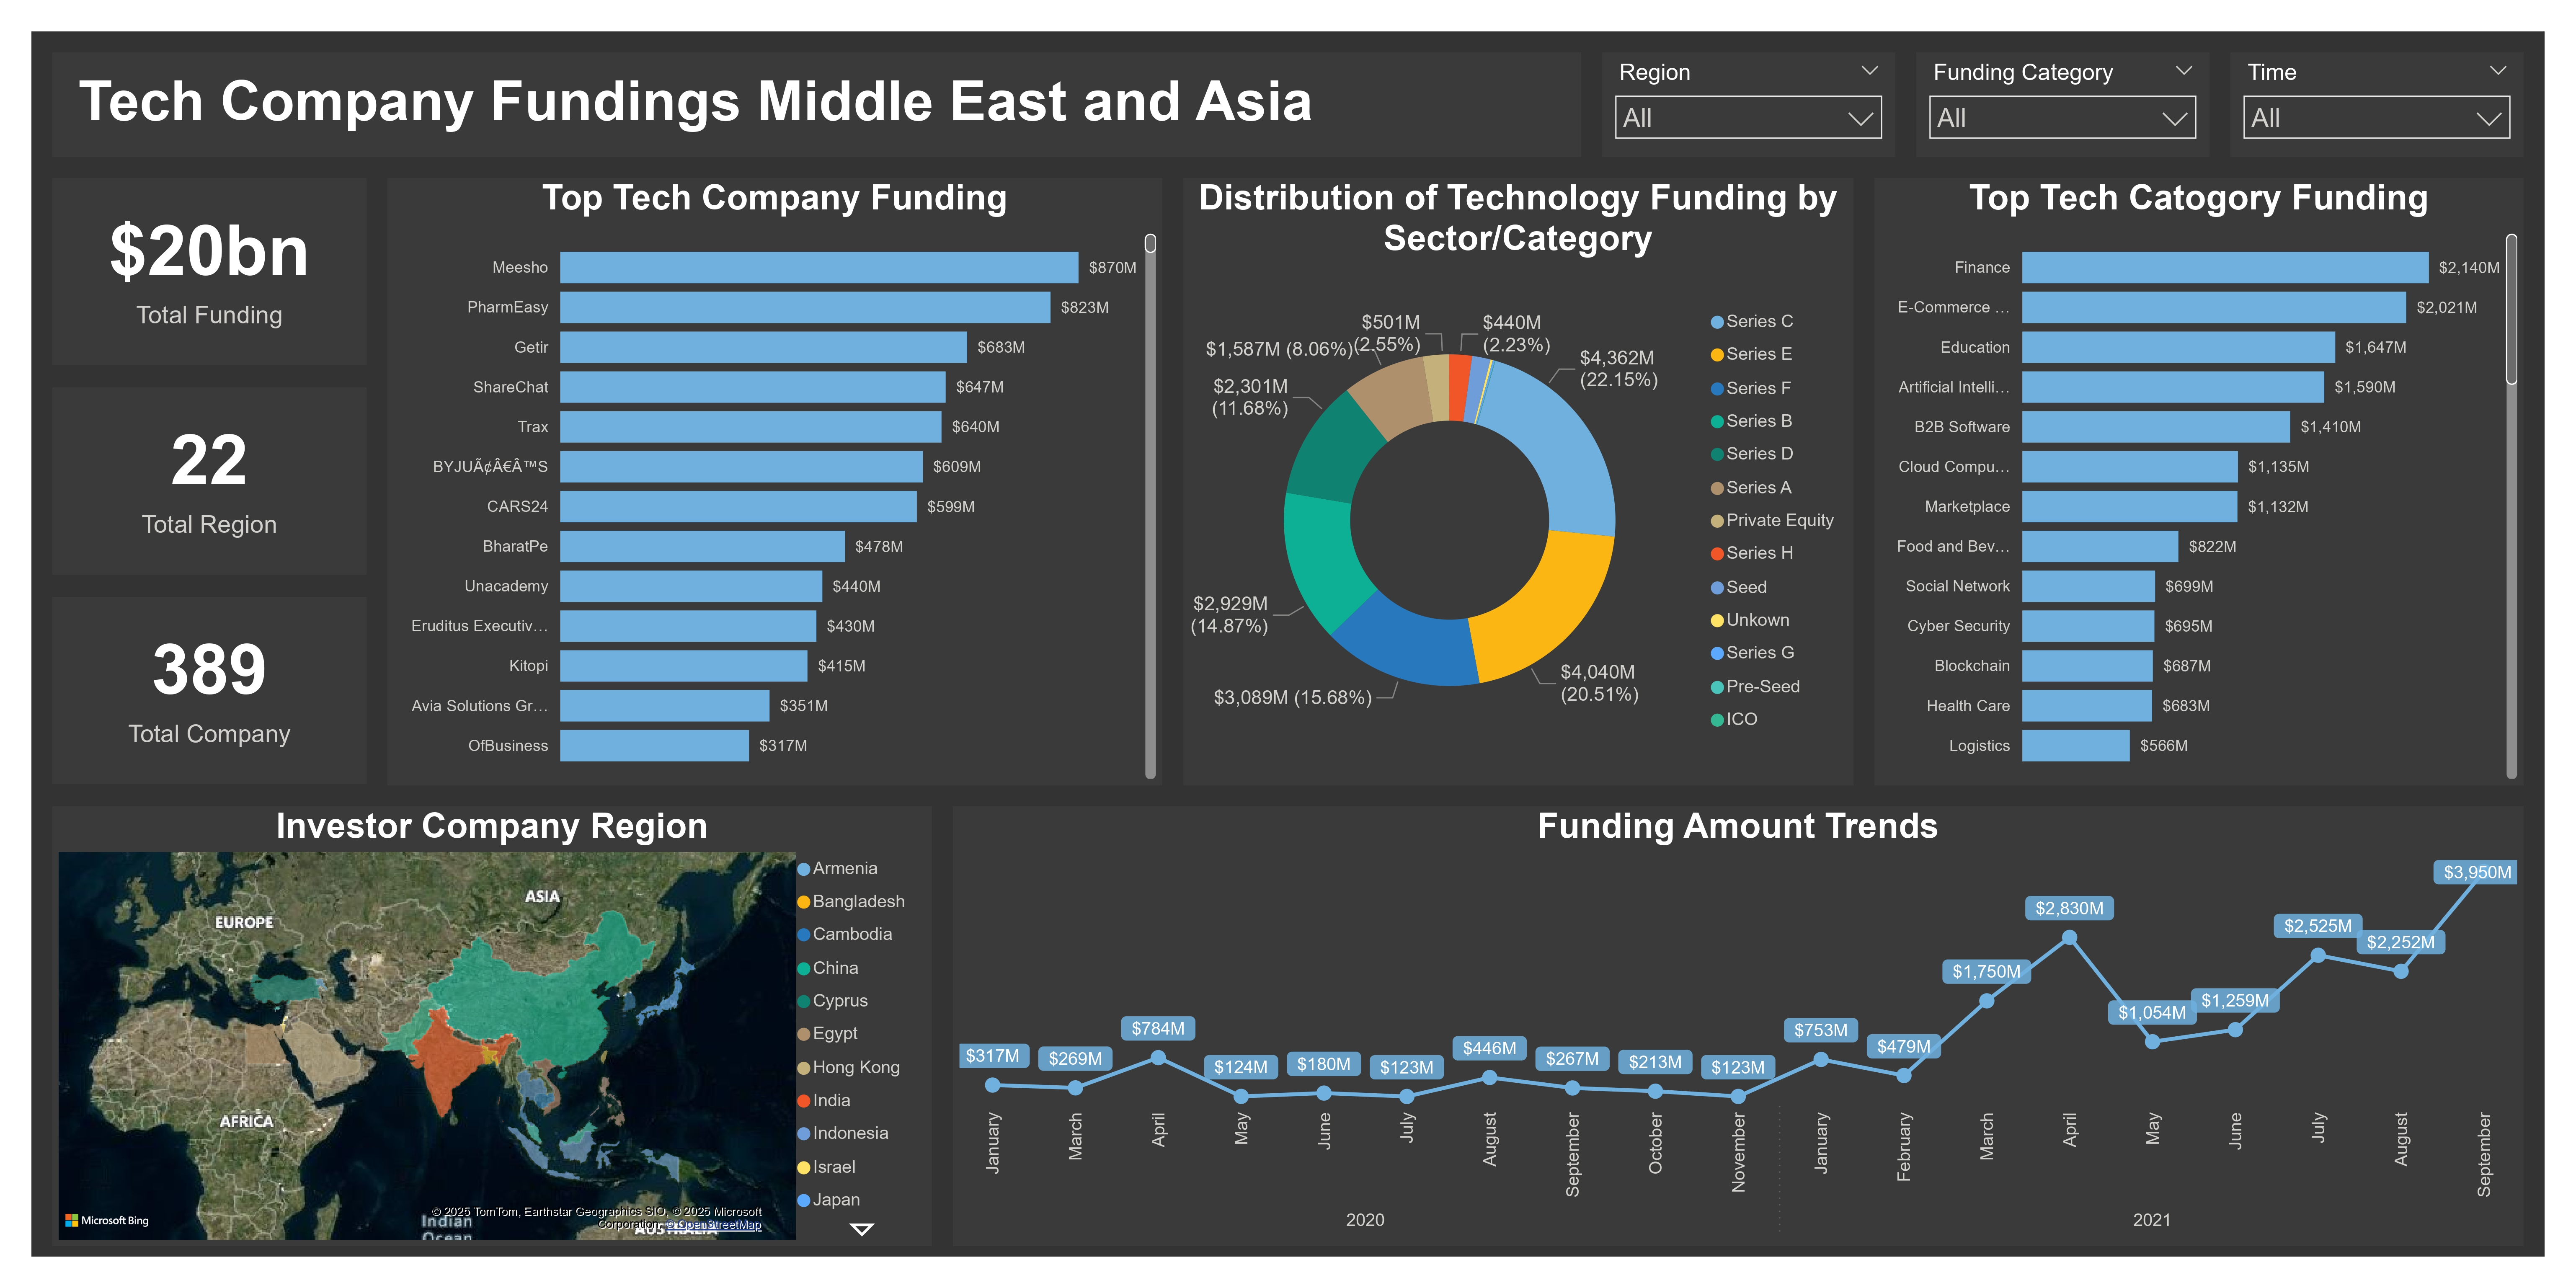

This screenshot's page, from the dashboard's own definition file:
{"tool":"powerbi","page":{"name":"Page 1","canvas":[1920,936],"ordinal":0},"visuals":[{"type":"textbox","box":[16,16,1168,80],"z":0},{"type":"cardVisual","title":"asdasdasd","fields":{"Data":["Sum(tech_fundings.Funding Amount (USD))","Count(tech_fundings.Region)","Count(tech_fundings.Company)"]},"box":[16,112,240,464],"z":1000},{"type":"filledMap","title":"Investor Company Region","fields":{"Series":["tech_fundings.Region"],"Category":["tech_fundings.Region"]},"box":[16,592,672,336],"z":2000},{"type":"lineStackedColumnComboChart","title":"Funding Amount Trends","fields":{"Y2":["Sum(tech_fundings.Funding Amount (USD))"],"Category":["tech_fundings.Funding Date.Variation.Date Hierarchy.Year","tech_fundings.Funding Date.Variation.Date Hierarchy.Month"]},"box":[704,592,1200,336],"z":3000},{"type":"barChart","title":"Top Tech Company Funding","fields":{"Category":["tech_fundings.Company"],"Y":["Sum(tech_fundings.Funding Amount (USD))"]},"box":[272,112,592,464],"z":4000},{"type":"donutChart","title":"Distribution of Technology Funding by Sector/Category","fields":{"Y":["Sum(tech_fundings.Funding Amount (USD))"],"Category":["tech_fundings.Funding Stage"]},"box":[880,112,512,464],"z":5000},{"type":"slicer","fields":{"Values":["tech_fundings.Funding Stage"]},"box":[1440,16,224,80],"z":6000},{"type":"slicer","fields":{"Values":["tech_fundings.Funding Date.Variation.Date Hierarchy.Year","tech_fundings.Funding Date.Variation.Date Hierarchy.Quarter","tech_fundings.Funding Date.Variation.Date Hierarchy.Month","tech_fundings.Funding Date.Variation.Date Hierarchy.Day"]},"box":[1680,16,224,80],"z":7000},{"type":"barChart","title":"Top Tech Catogory Funding","fields":{"Category":["tech_fundings.Vertical"],"Y":["Sum(tech_fundings.Funding Amount (USD))"]},"box":[1408,112,496,464],"z":8000},{"type":"slicer","fields":{"Values":["tech_fundings.Region"]},"box":[1200,16,224,80],"z":9000}]}

Visuals, with their boxes on the page's 1920x936 design canvas (x1, y1, x2, y2). These are canvas units, not pixel positions in the 2576x1288 screenshot, which may show the page scaled, cropped or inside an application window:
textbox: pyautogui.locateOnScreen(16, 16, 1184, 96)
"asdasdasd" cardVisual: pyautogui.locateOnScreen(16, 112, 256, 576)
"Investor Company Region" filledMap: pyautogui.locateOnScreen(16, 592, 688, 928)
"Funding Amount Trends" lineStackedColumnComboChart: pyautogui.locateOnScreen(704, 592, 1904, 928)
"Top Tech Company Funding" barChart: pyautogui.locateOnScreen(272, 112, 864, 576)
"Distribution of Technology Funding by Sector/Category" donutChart: pyautogui.locateOnScreen(880, 112, 1392, 576)
slicer - tech_fundings.Funding Stage: pyautogui.locateOnScreen(1440, 16, 1664, 96)
slicer - tech_fundings.Funding Date.Variation.Date Hierarchy.Year x tech_fundings.Funding Date.Variation.Date Hierarchy.Quarter: pyautogui.locateOnScreen(1680, 16, 1904, 96)
"Top Tech Catogory Funding" barChart: pyautogui.locateOnScreen(1408, 112, 1904, 576)
slicer - tech_fundings.Region: pyautogui.locateOnScreen(1200, 16, 1424, 96)
